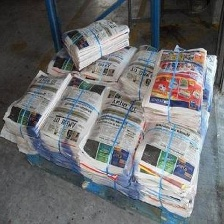news_paper: (74, 90, 152, 194), (129, 118, 209, 219), (34, 74, 114, 173), (0, 64, 71, 158), (143, 44, 208, 132), (37, 39, 138, 83), (53, 13, 131, 69), (117, 40, 169, 96)
